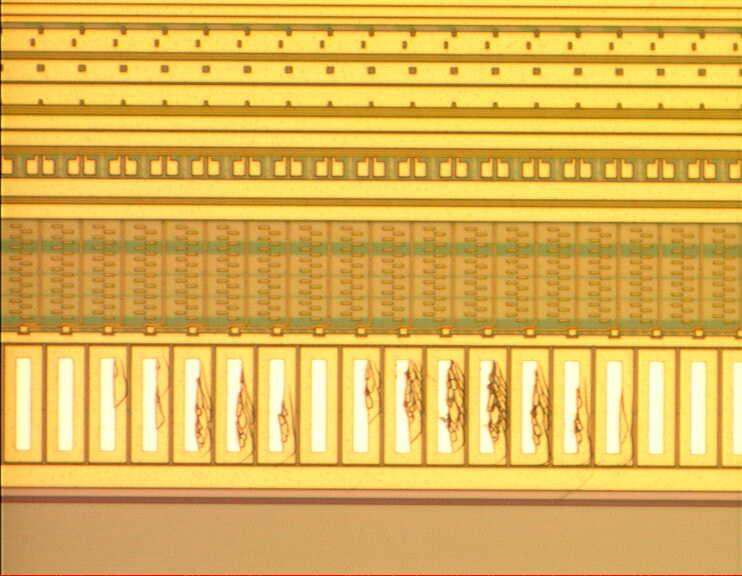SCRATCH: (107, 358, 641, 468)
